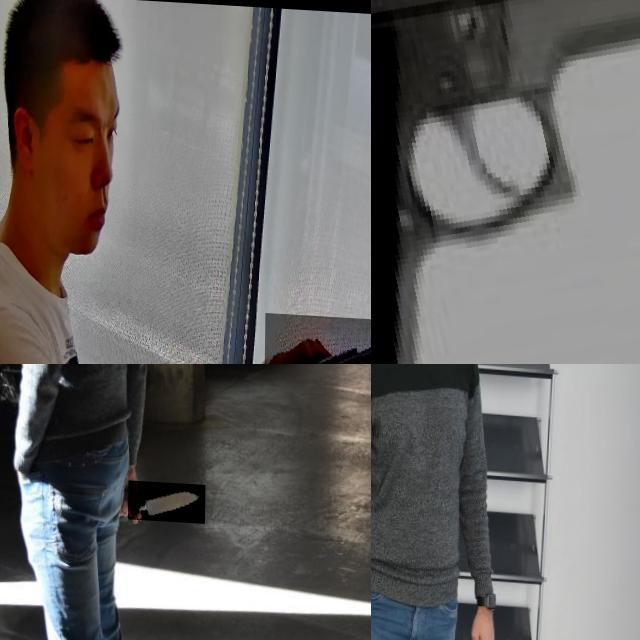-: (129, 478, 207, 521)
gun-knife-thesis - v11 Yolov5 augmented: (371, 0, 640, 364), (264, 308, 371, 364)
